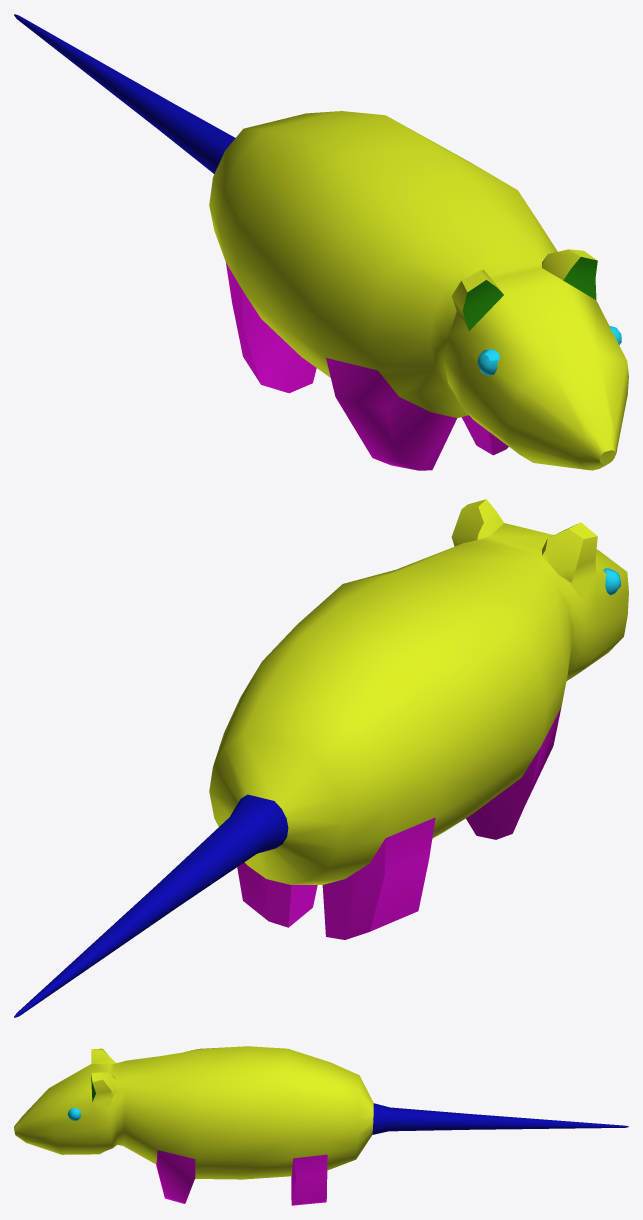
The model's file is Rat_Low.fbx.
3 renders of one model, top to bottom at view 1: azimuth 30°, elevation 25°; view 2: azimuth 150°, elevation 25°; view 3: azimuth 270°, elevation 25°, orthographic. The views are drawn at different scales.
Visible parts, largest first — view 1: Body_low; view 2: Body_low; view 3: Body_low.
Part boxes in pixels (x1,y1,x2,y2): Body_low: (14, 14, 628, 470); Body_low: (14, 499, 628, 1017); Body_low: (14, 1046, 628, 1205).
Size of the model in its own units: 23.01 by 25.37 by 103.
